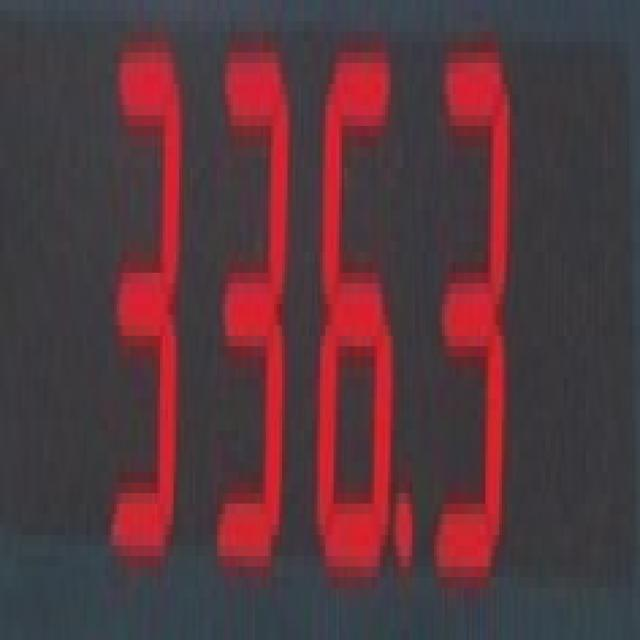.: (391, 484, 414, 582)
3: (431, 43, 512, 585), (213, 43, 291, 576), (104, 32, 180, 571)
6: (313, 34, 393, 581)
